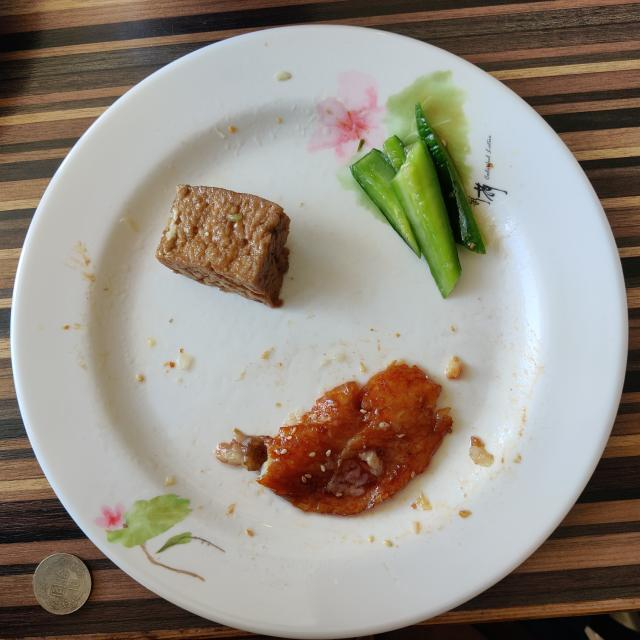Kabayaki sea bream fillet: (216, 364, 452, 515)
coin: (32, 554, 91, 615)
cucumber: (350, 104, 485, 298)
egg tofu: (156, 185, 290, 308)
